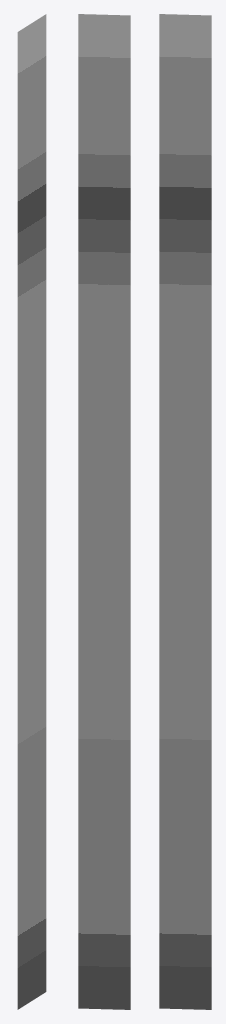
3 views of the same model, side by side, from view 1: azimuth 30°, elevation 25°; view 2: azimuth 150°, elevation 25°; view 3: azimuth 330°, elevation 25° (orthographic).
Bounding box in the file's own units: 0.1283 × 3 × 0.0631.
Materials: 1 (1 with a texture image).
